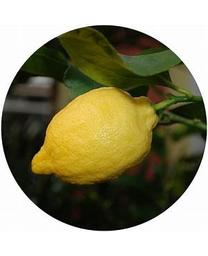lemon: (33, 87, 160, 184)
